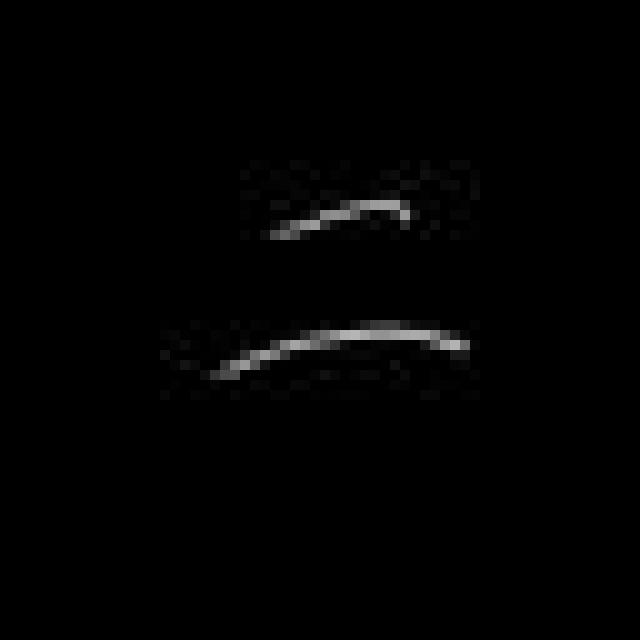2 -two-: (204, 176, 485, 396)
